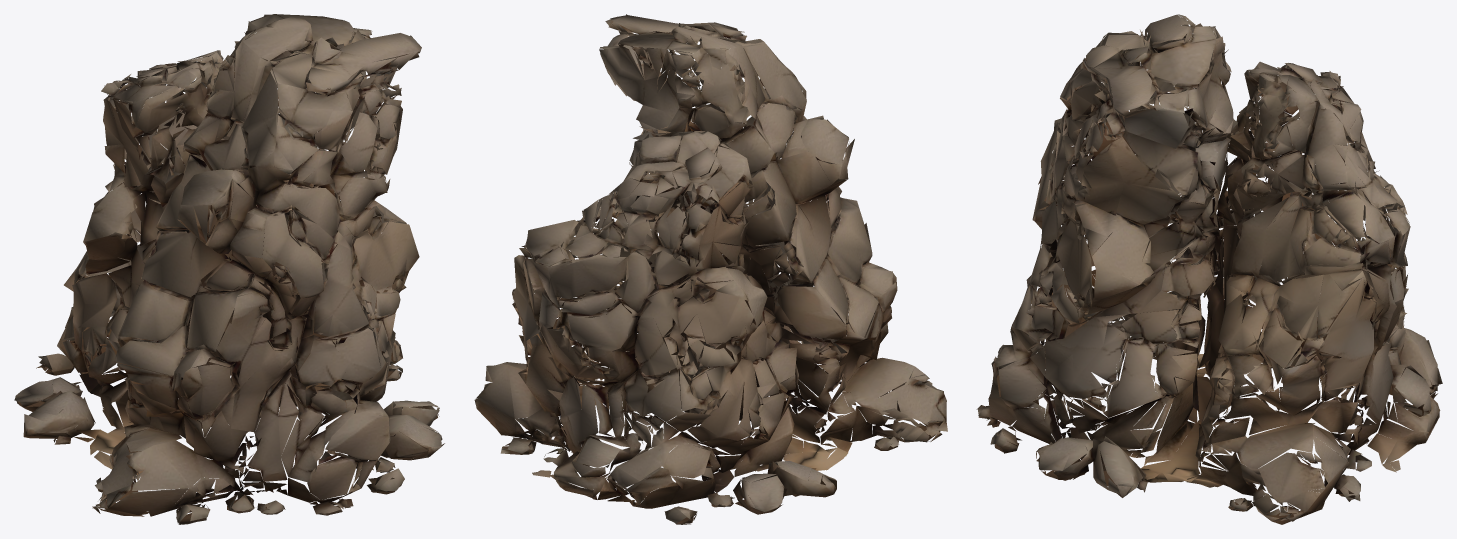
The model's file is ch9_tectonic_fault_rock_LOD1.glb.
3 renders of one model, left to right at view 1: azimuth 30°, elevation 25°; view 2: azimuth 150°, elevation 25°; view 3: azimuth 270°, elevation 25°, orthographic. The views are drawn at different scales.
Parts seen in each view (by area): view 1: tripo_node_c82a8420-657e-4b54-bbeb-f1ab4b4a74dd; view 2: tripo_node_c82a8420-657e-4b54-bbeb-f1ab4b4a74dd; view 3: tripo_node_c82a8420-657e-4b54-bbeb-f1ab4b4a74dd.
Boxes of the visible parts, x1,y1,x2,y2 form: tripo_node_c82a8420-657e-4b54-bbeb-f1ab4b4a74dd: (14,14,444,524); tripo_node_c82a8420-657e-4b54-bbeb-f1ab4b4a74dd: (474,14,947,524); tripo_node_c82a8420-657e-4b54-bbeb-f1ab4b4a74dd: (976,14,1442,524).
Bounding box in the file's own units: 1.02 × 0.9966 × 1.01.
Materials: 1 (1 with a texture image).
